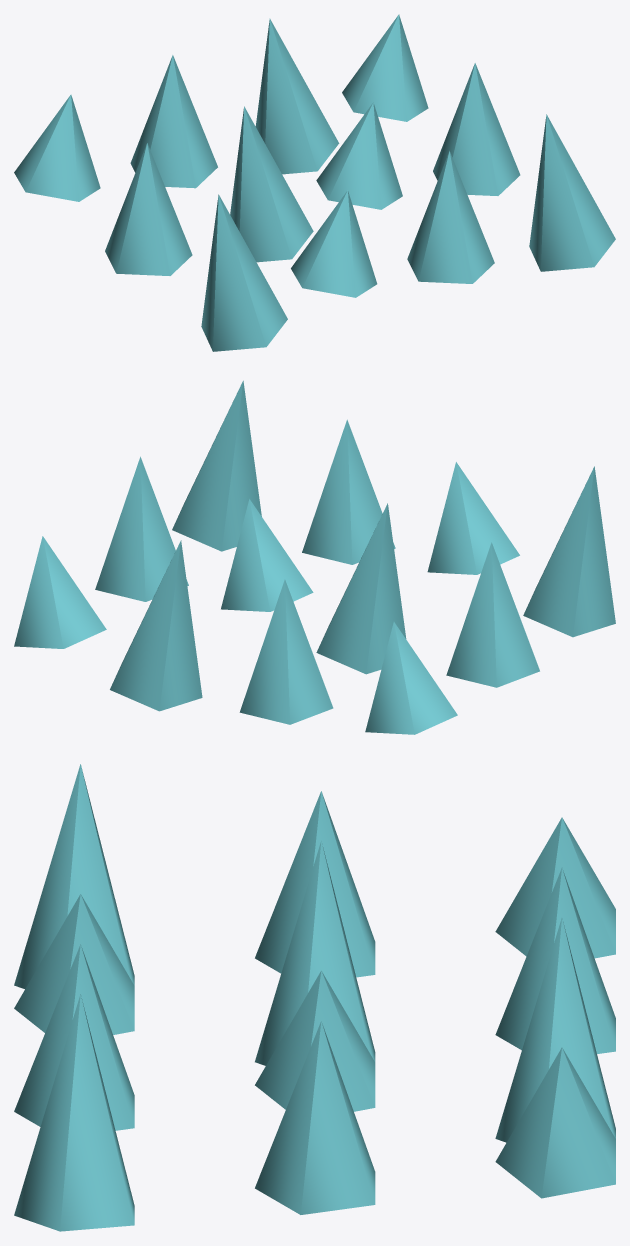
Rendered from ore.glb.
3 renders of one model, top to bottom at view 1: azimuth 30°, elevation 25°; view 2: azimuth 150°, elevation 25°; view 3: azimuth 270°, elevation 25°, orthographic. The views are drawn at different scales.
Parts seen in each view (by area): view 1: Batched static factory; view 2: Batched static factory; view 3: Batched static factory.
Part boxes in pixels (box(x1,y1,x2,y2)): Batched static factory: box(14, 14, 615, 351); Batched static factory: box(14, 380, 615, 734); Batched static factory: box(14, 764, 615, 1231).
Bounding box in the file's own units: 1.9 × 0.6406 × 1.63.
